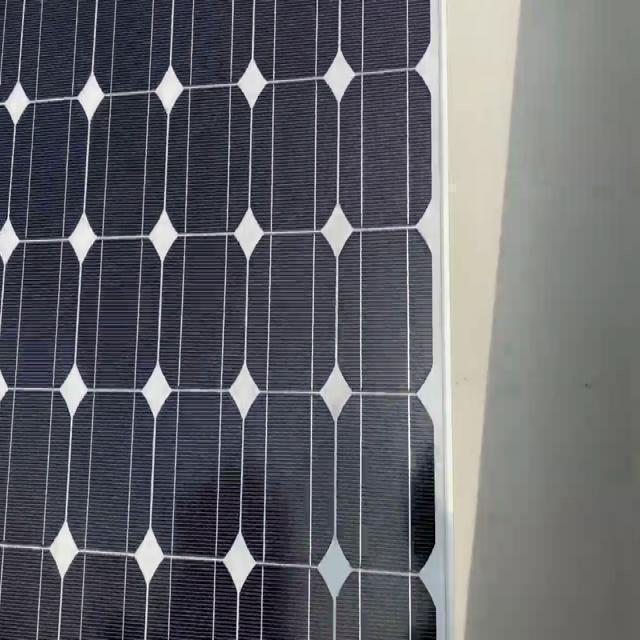Normal Solar Panel: (0, 0, 450, 639)
